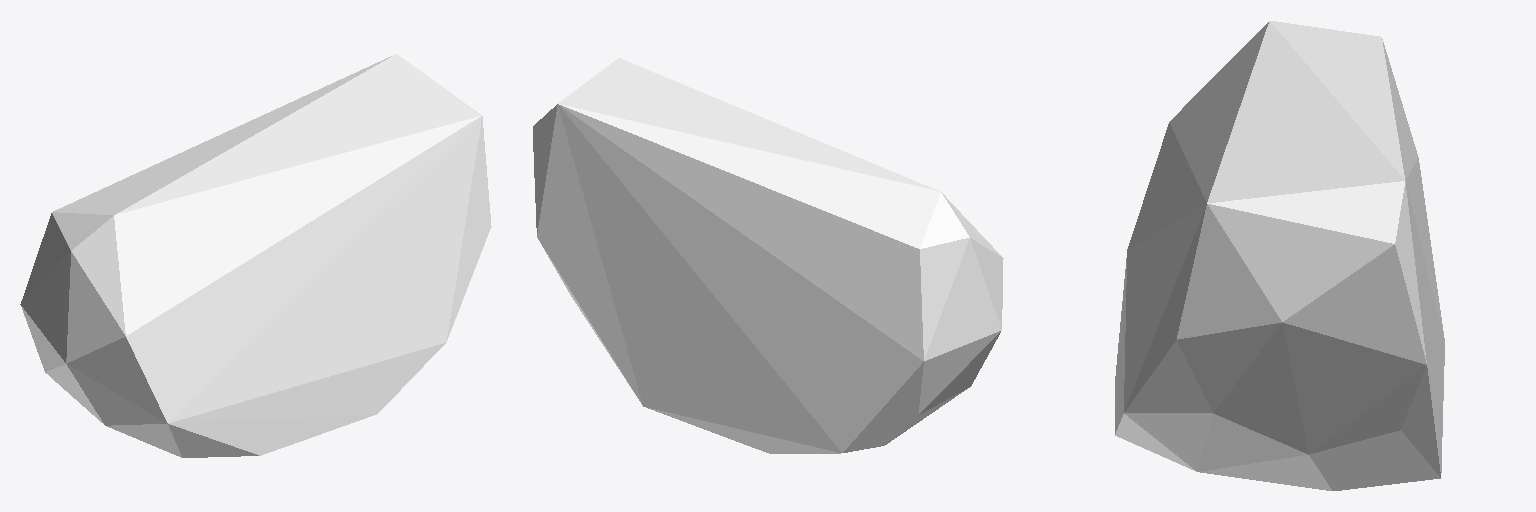
robot.urdf — red_rleg:
<robot name="red_rleg">
  <link name="base_link">
    <visual>
      <origin xyz="0 0 0" rpy="0 0 0" />
      <geometry>
        <mesh filename="package://hpp-timeopt-corba/meshes/red/red_rleg.stl"/>
      </geometry>
      <material name="white">
        <color rgba="1 1 1 1"/>
      </material>
    </visual>
    <collision>
      <origin xyz="0 0 0" rpy="0 0 0" />
      <geometry>
        <mesh filename="package://hpp-timeopt-corba/meshes/red/red_rleg.stl"/>
      </geometry>
    </collision>
  </link>
</robot>

--- What the picture shows (computed from the rendered views, not written in the file) ---
Views: 3 orthographic renders of the robot side by side, from view 1: azimuth 30°, elevation 25°; view 2: azimuth 150°, elevation 25°; view 3: azimuth 270°, elevation 25°.
Robot: red_rleg — 1 links, 0 joints (none); root link base_link; default pose: every joint at zero.
Visible links, largest first — view 1: base_link; view 2: base_link; view 3: base_link.
Boxes of the visible links, bbox=[...] form: base_link: bbox=[20, 54, 491, 457]; base_link: bbox=[533, 58, 1003, 453]; base_link: bbox=[1115, 21, 1444, 490].
Bounding box of the posed robot: 1.48 × 0.7511 × 1.04 m (x, y, z).
Meshes: 1 distinct files referenced, 1 mesh visuals loaded (1 binary STL).